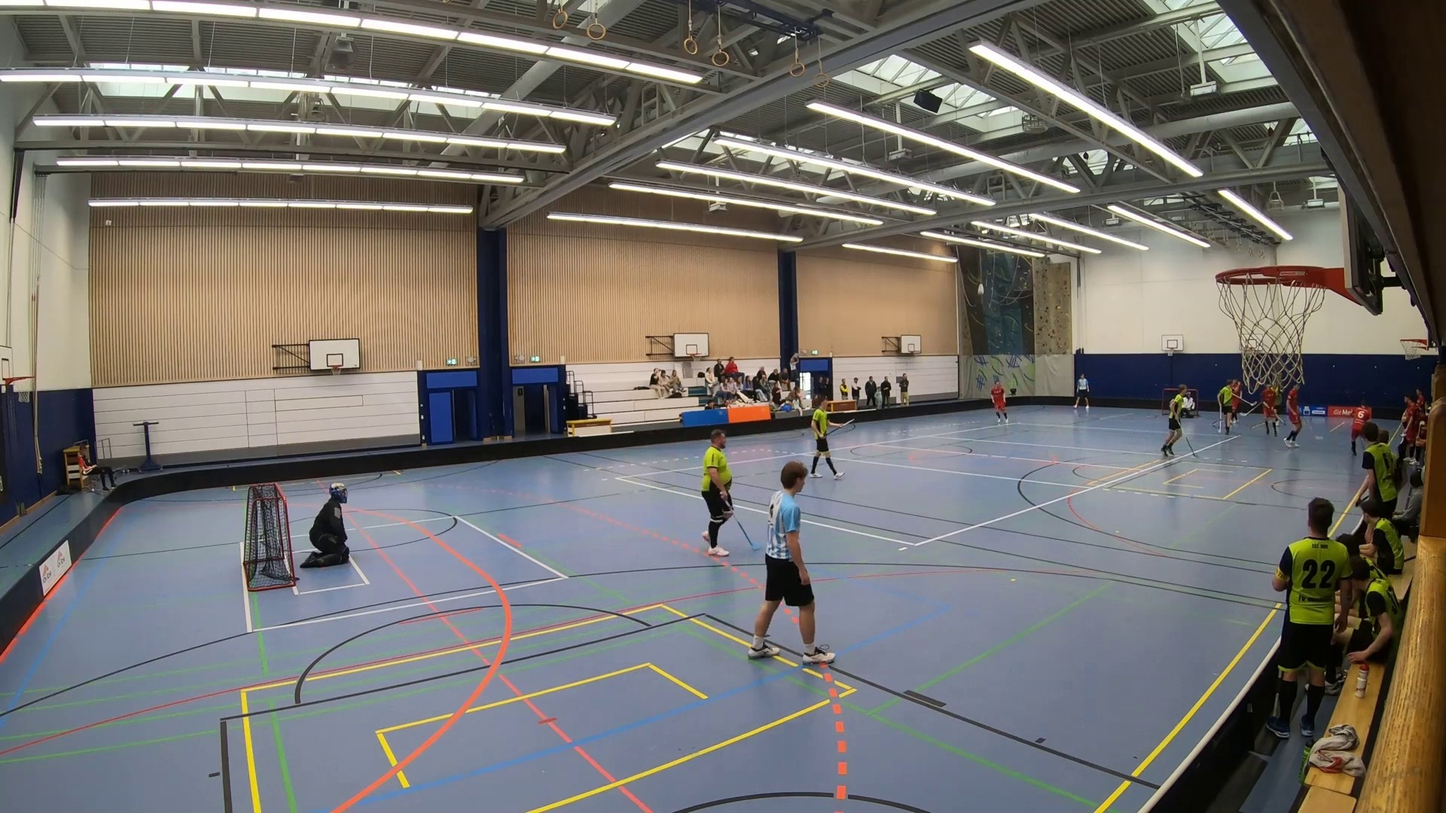goalkeeper: (300, 483, 349, 566), (1177, 388, 1197, 419)
player: (701, 428, 732, 555), (810, 397, 840, 479), (1161, 383, 1185, 455), (1350, 397, 1371, 453), (1283, 385, 1301, 447), (1217, 379, 1234, 433), (1260, 383, 1277, 435), (990, 377, 1008, 422), (1231, 379, 1243, 422)
